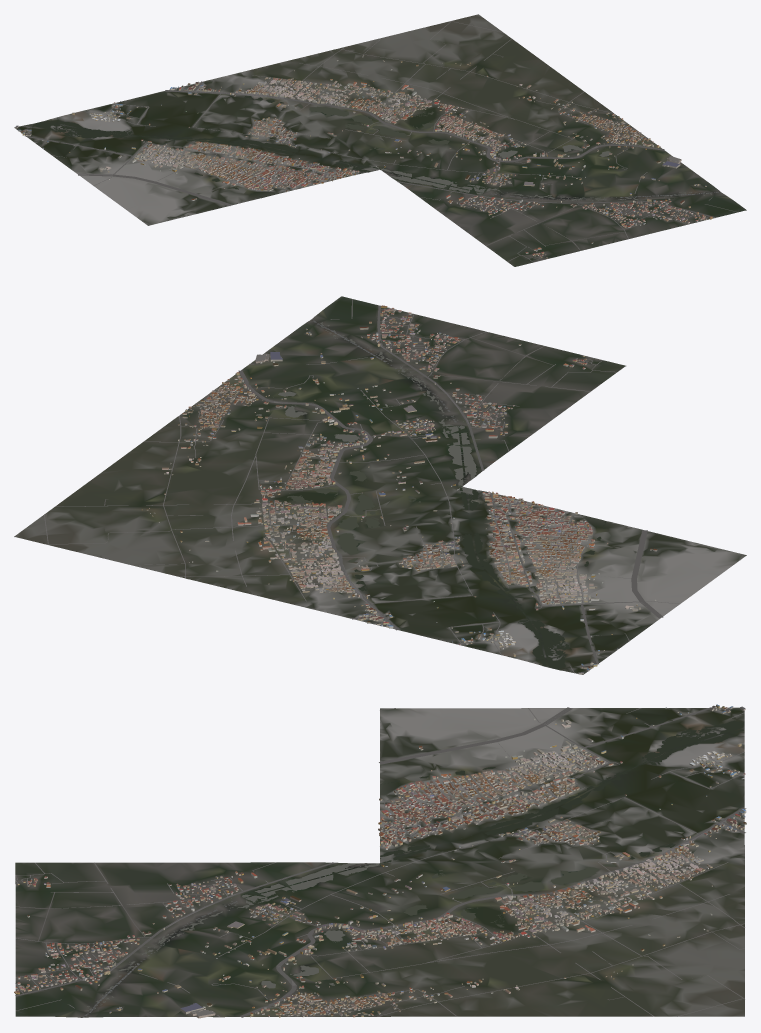
3 views of the same model, one above another, from view 1: azimuth 30°, elevation 25°; view 2: azimuth 150°, elevation 25°; view 3: azimuth 270°, elevation 25° (orthographic). The views are drawn at different scales.
Visible parts, largest first — view 1: ground, buildings, roads, water; view 2: ground, buildings, roads, water; view 3: ground, buildings, roads, water.
Part boxes in pixels (x1,y1,x2,y2): ground: [14, 14, 746, 266]; buildings: [14, 55, 712, 258]; roads: [21, 20, 737, 262]; water: [34, 96, 721, 201]; ground: [14, 296, 746, 674]; buildings: [141, 305, 657, 674]; roads: [44, 299, 743, 672]; water: [256, 319, 605, 669]; ground: [15, 707, 744, 1017]; buildings: [14, 704, 746, 1018]; roads: [15, 707, 746, 1017]; water: [83, 720, 744, 1017].
Bounding box in the file's own units: 2830 × 25.04 × 2817.
